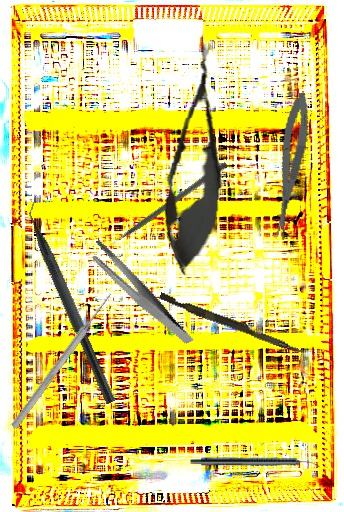Chopper: (16, 193, 130, 405)
Dressing Forceps: (86, 223, 194, 364)
Handpiece: (190, 457, 320, 468)
Micro Scissor: (155, 38, 236, 279), (265, 91, 315, 241)
Pusher: (9, 290, 116, 431), (102, 160, 228, 252), (157, 292, 306, 355)
